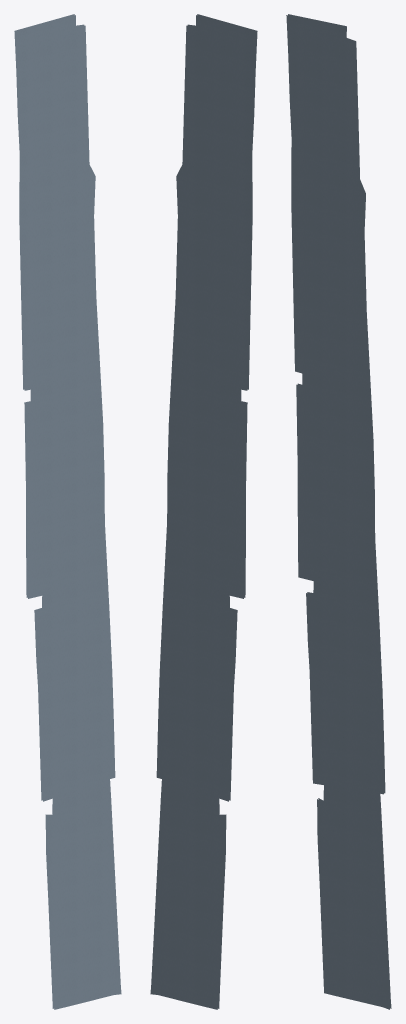
File: floor_31.obj
3 views of the same model, side by side, from view 1: azimuth 30°, elevation 25°; view 2: azimuth 150°, elevation 25°; view 3: azimuth 330°, elevation 25° (orthographic).
Visible parts, largest first — view 1: floor_31; view 2: floor_31; view 3: floor_31.
Part boxes in pixels (box(x1,y1,x2,y2)): floor_31: box(14, 14, 121, 1009); floor_31: box(150, 14, 257, 1009); floor_31: box(286, 14, 391, 1009).
Size of the model in its own units: 4.23 by 37.9 by 0.1.
Materials: 1 (1 with a texture image).
